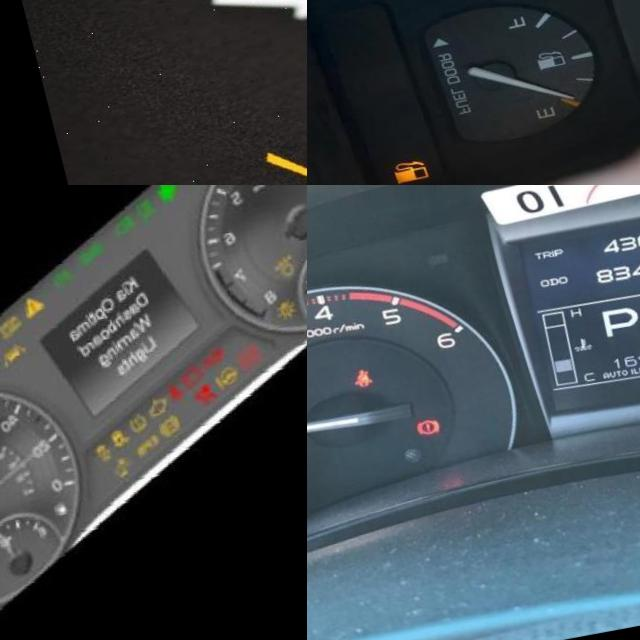Seat Belt: (334, 371, 357, 394)
